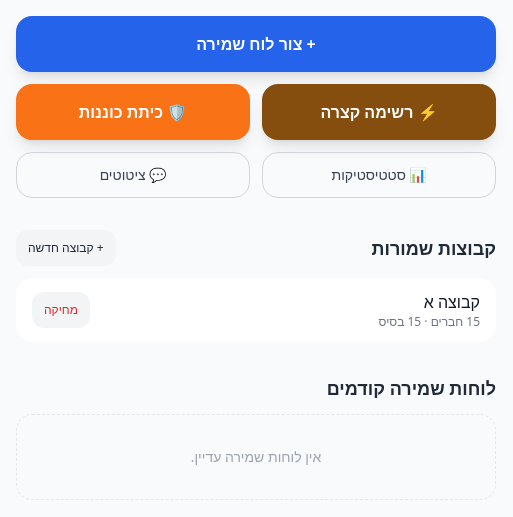
Scenario: Short-List Creation Flow › One Station — Happy Path › navigates from HomeScreen to Step1_Stations on short-list button click
Click the button "⚡ רשימה קצרה".
click(379, 112)  # box top-left (262, 84), bottom-right (496, 140)
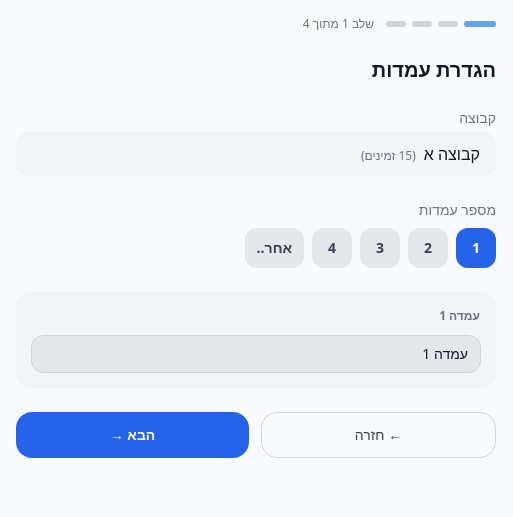
Result: the heading "הגדרת עמדות" is shown at top-left (372, 56), bottom-right (496, 83)
